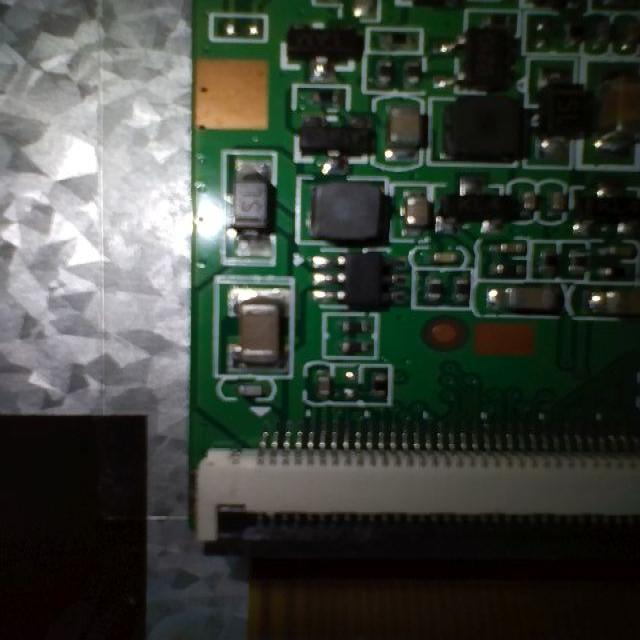capacitor: (205, 281, 296, 382), (596, 71, 640, 151), (373, 95, 428, 155), (490, 285, 572, 320), (575, 281, 640, 311), (398, 184, 429, 229), (308, 364, 329, 410), (545, 177, 567, 215), (428, 246, 462, 266), (519, 177, 534, 218), (489, 244, 530, 257)
resistor: (419, 273, 451, 310), (400, 58, 430, 92), (334, 338, 381, 358), (369, 364, 392, 403), (384, 26, 423, 48), (371, 58, 395, 87), (336, 318, 376, 331), (454, 278, 471, 308)
